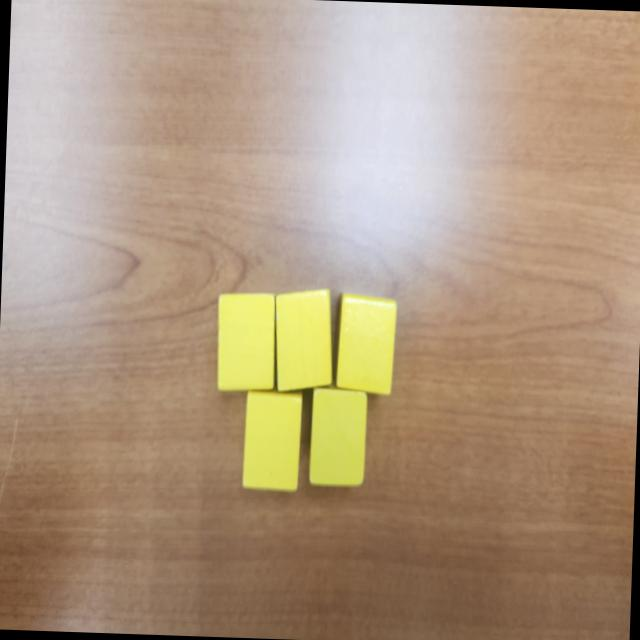yellow: (332, 294, 398, 396), (240, 388, 304, 493), (214, 292, 278, 393), (272, 288, 334, 392), (308, 386, 369, 486)
